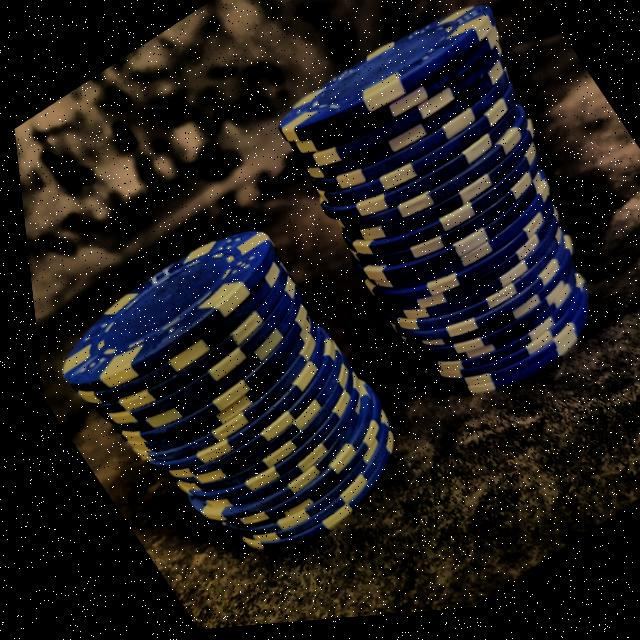Chip: (213, 0, 640, 461), (17, 170, 435, 618)
